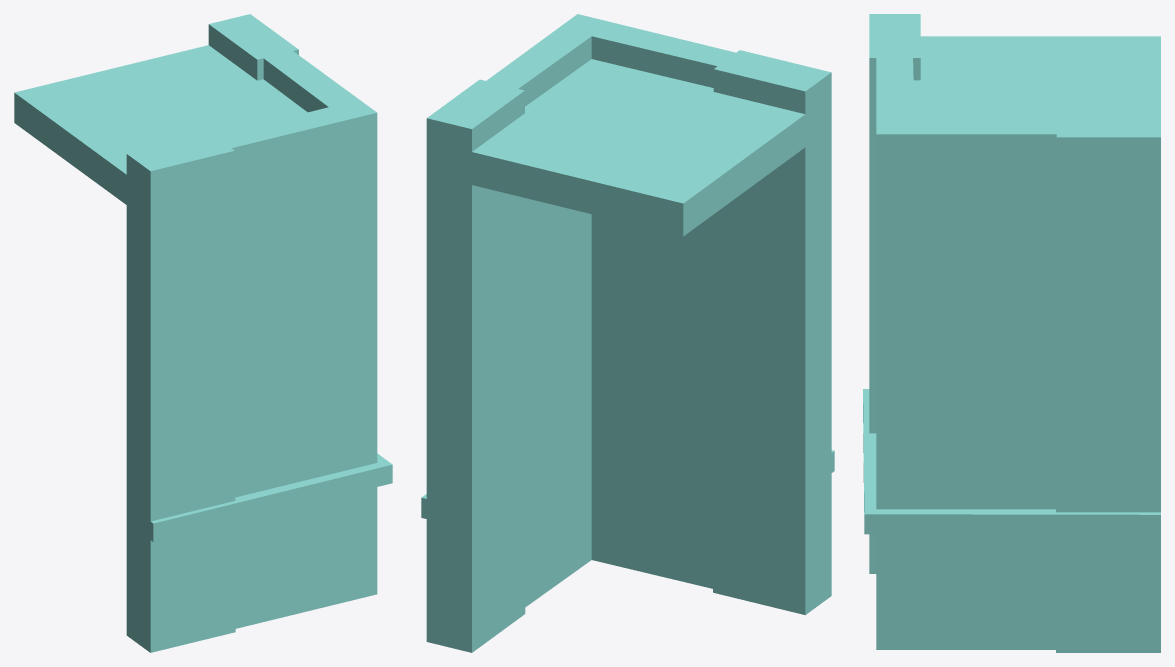
Rendered from DinerWallCorner_Collision.fbx.
3 renders of one model, left to right at view 1: azimuth 30°, elevation 25°; view 2: azimuth 150°, elevation 25°; view 3: azimuth 270°, elevation 25°, orthographic. The views are drawn at different scales.
Parts seen in each view (by area): view 1: DinerWallCorner_Collision; view 2: DinerWallCorner_Collision; view 3: DinerWallCorner_Collision.
Boxes of the visible parts, x1=… form: DinerWallCorner_Collision: x1=14, y1=14, x2=392, y2=652; DinerWallCorner_Collision: x1=421, y1=14, x2=834, y2=652; DinerWallCorner_Collision: x1=863, y1=14, x2=1160, y2=652.
Bounding box in the file's own units: 1.84 × 3.52 × 1.84.
